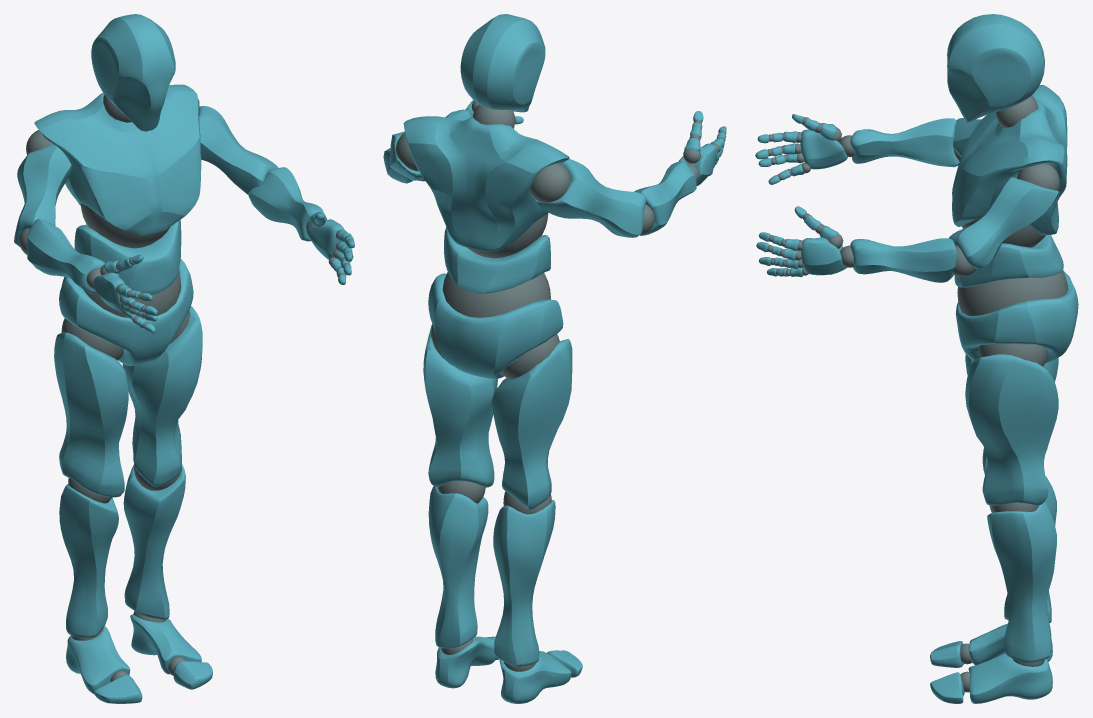
Rendered from SecondPhase_anim.fbx.
The picture shows the model from 3 angles, left to right: view 1: azimuth 30°, elevation 25°; view 2: azimuth 150°, elevation 25°; view 3: azimuth 270°, elevation 25°; orthographic projection.
Visible parts, largest first — view 1: Alpha_Surface, Alpha_Joints; view 2: Alpha_Surface, Alpha_Joints; view 3: Alpha_Surface, Alpha_Joints.
Boxes of the visible parts, x1=… form: Alpha_Surface: x1=14, y1=14, x2=354, y2=703; Alpha_Joints: x1=19, y1=94, x2=352, y2=681; Alpha_Surface: x1=383, y1=14, x2=726, y2=703; Alpha_Joints: x1=395, y1=101, x2=725, y2=671; Alpha_Surface: x1=755, y1=14, x2=1078, y2=703; Alpha_Joints: x1=767, y1=95, x2=1068, y2=692.
Size of the model in its own units: 75.63 by 179 by 79.26.
